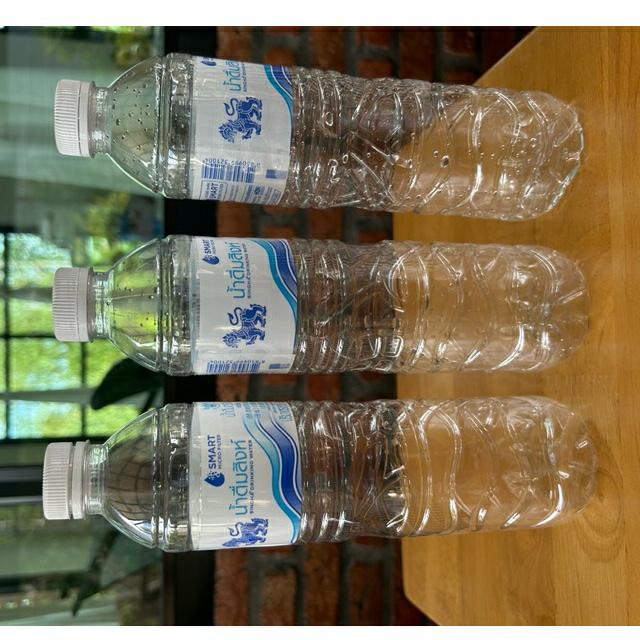plastik: (54, 54, 582, 219), (45, 396, 595, 551), (52, 235, 588, 375)
